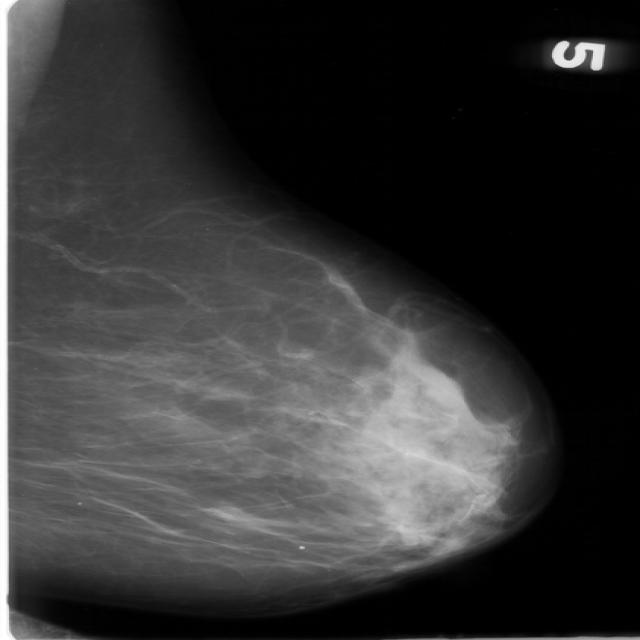tumour: (205, 501, 247, 524)
